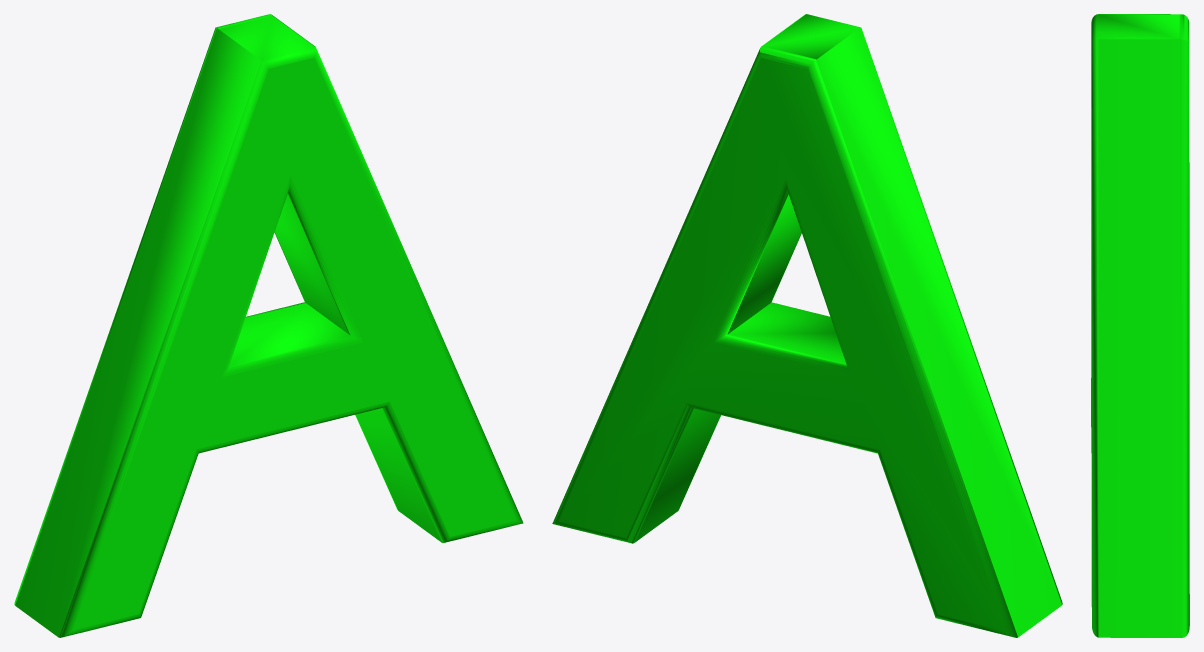
The picture shows the model from 3 angles, left to right: view 1: azimuth 30°, elevation 25°; view 2: azimuth 150°, elevation 25°; view 3: azimuth 270°, elevation 25°; orthographic projection. The views are drawn at different scales.
Parts seen in each view (by area): view 1: AA; view 2: AA; view 3: AA.
Boxes of the visible parts, left/top/right/bottom form: AA: left=14, top=14, right=523, bottom=637; AA: left=552, top=14, right=1062, bottom=637; AA: left=1091, top=14, right=1189, bottom=637.
Size of the model in its own units: 0.4601 by 0.5 by 0.0889.
